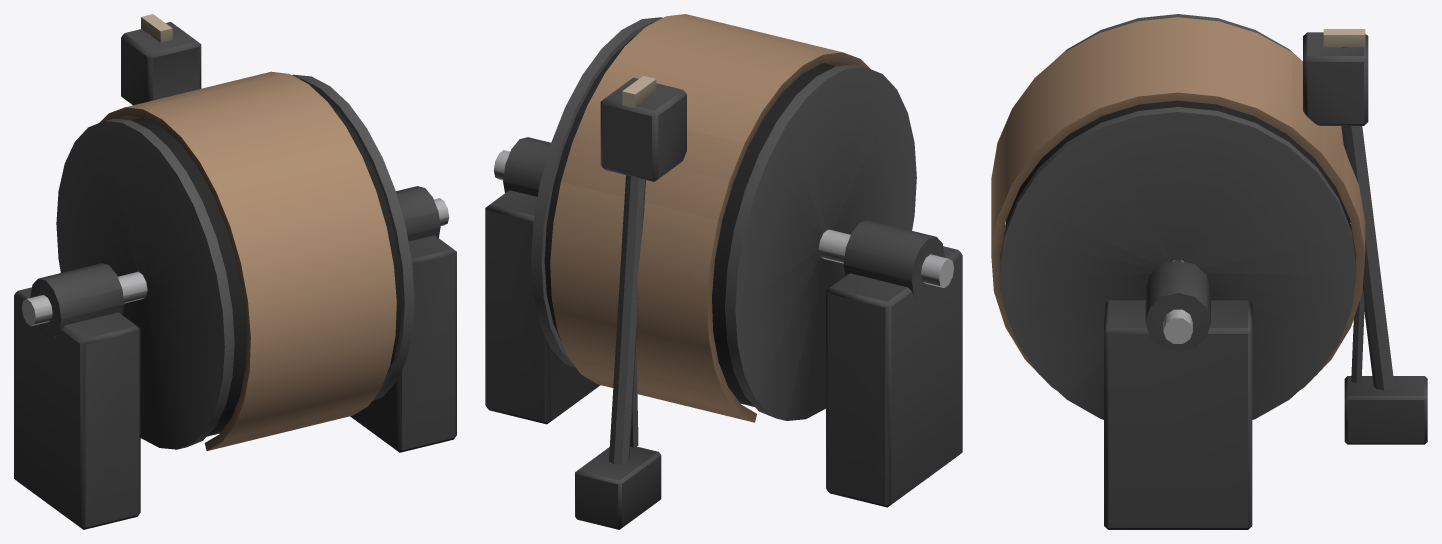
Rendered from brake_drum.glb.
3 views of the same model, side by side, from view 1: azimuth 30°, elevation 25°; view 2: azimuth 150°, elevation 25°; view 3: azimuth 270°, elevation 25° (orthographic). The views are drawn at different scales.
Visible parts, largest first — view 1: static; view 2: static; view 3: static.
Boxes of the visible parts, left/top/right/bottom form: static: left=14, top=14, right=456, bottom=529; static: left=485, top=14, right=962, bottom=529; static: left=991, top=14, right=1427, bottom=529.
Bounding box in the file's own units: 1.7 × 1.5 × 1.47.
